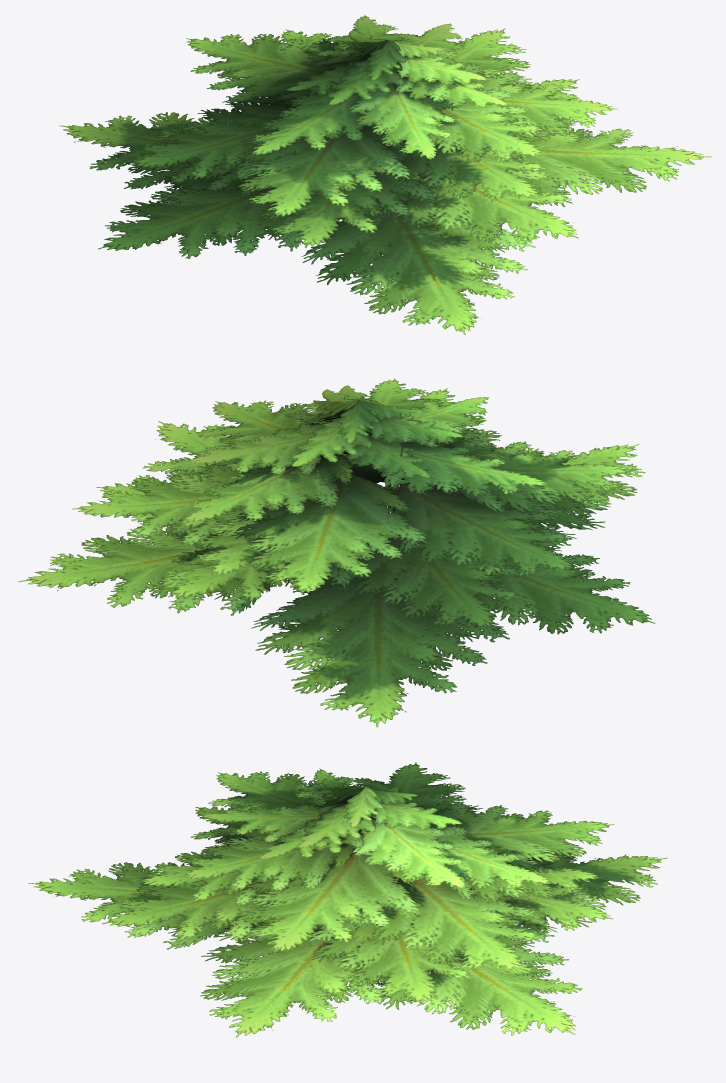
Rendered from Mod_WM_Tree_Pine_11.fbx.
3 views of the same model, one above another, from view 1: azimuth 30°, elevation 25°; view 2: azimuth 150°, elevation 25°; view 3: azimuth 270°, elevation 25° (orthographic). The views are drawn at different scales.
Parts seen in each view (by area): view 1: polySurface213; view 2: polySurface213; view 3: polySurface213.
Part boxes in pixels (x1,y1,x2,y2): polySurface213: (59,15,711,334); polySurface213: (18,378,655,727); polySurface213: (28,762,667,1037).
Size of the model in its own units: 252 by 68.81 by 272.
1 material, 1 textured.
